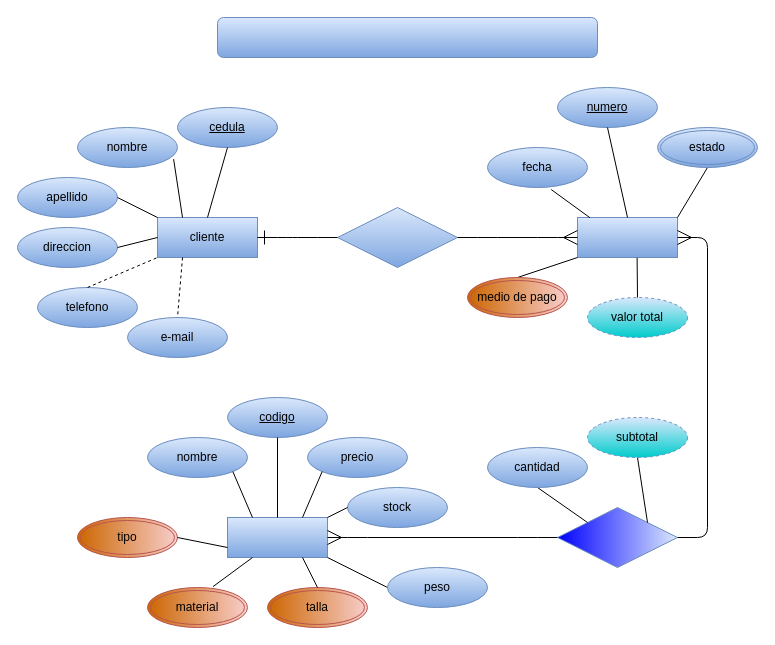
Image size: 775x645. Some labels were removed from this diagram. Here are the shapes that lost their labels. From the top down, the centre of each, then its label:
point (407, 37): MODELO CONCEPTUAL - TIENDA DE BISUTERIA
point (397, 237): genera
point (627, 237): venta
point (277, 537): producto
point (617, 537): contiene
